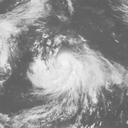cyclone: (42, 48, 85, 87)
